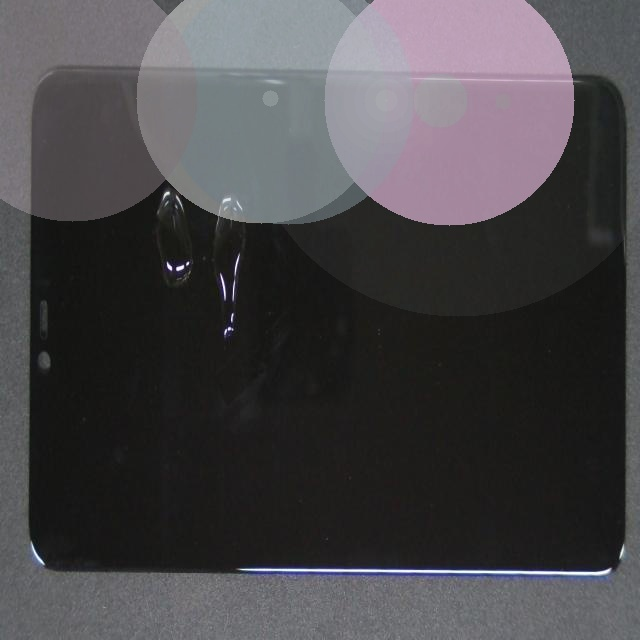oil: (131, 32, 332, 316), (93, 59, 238, 288)
